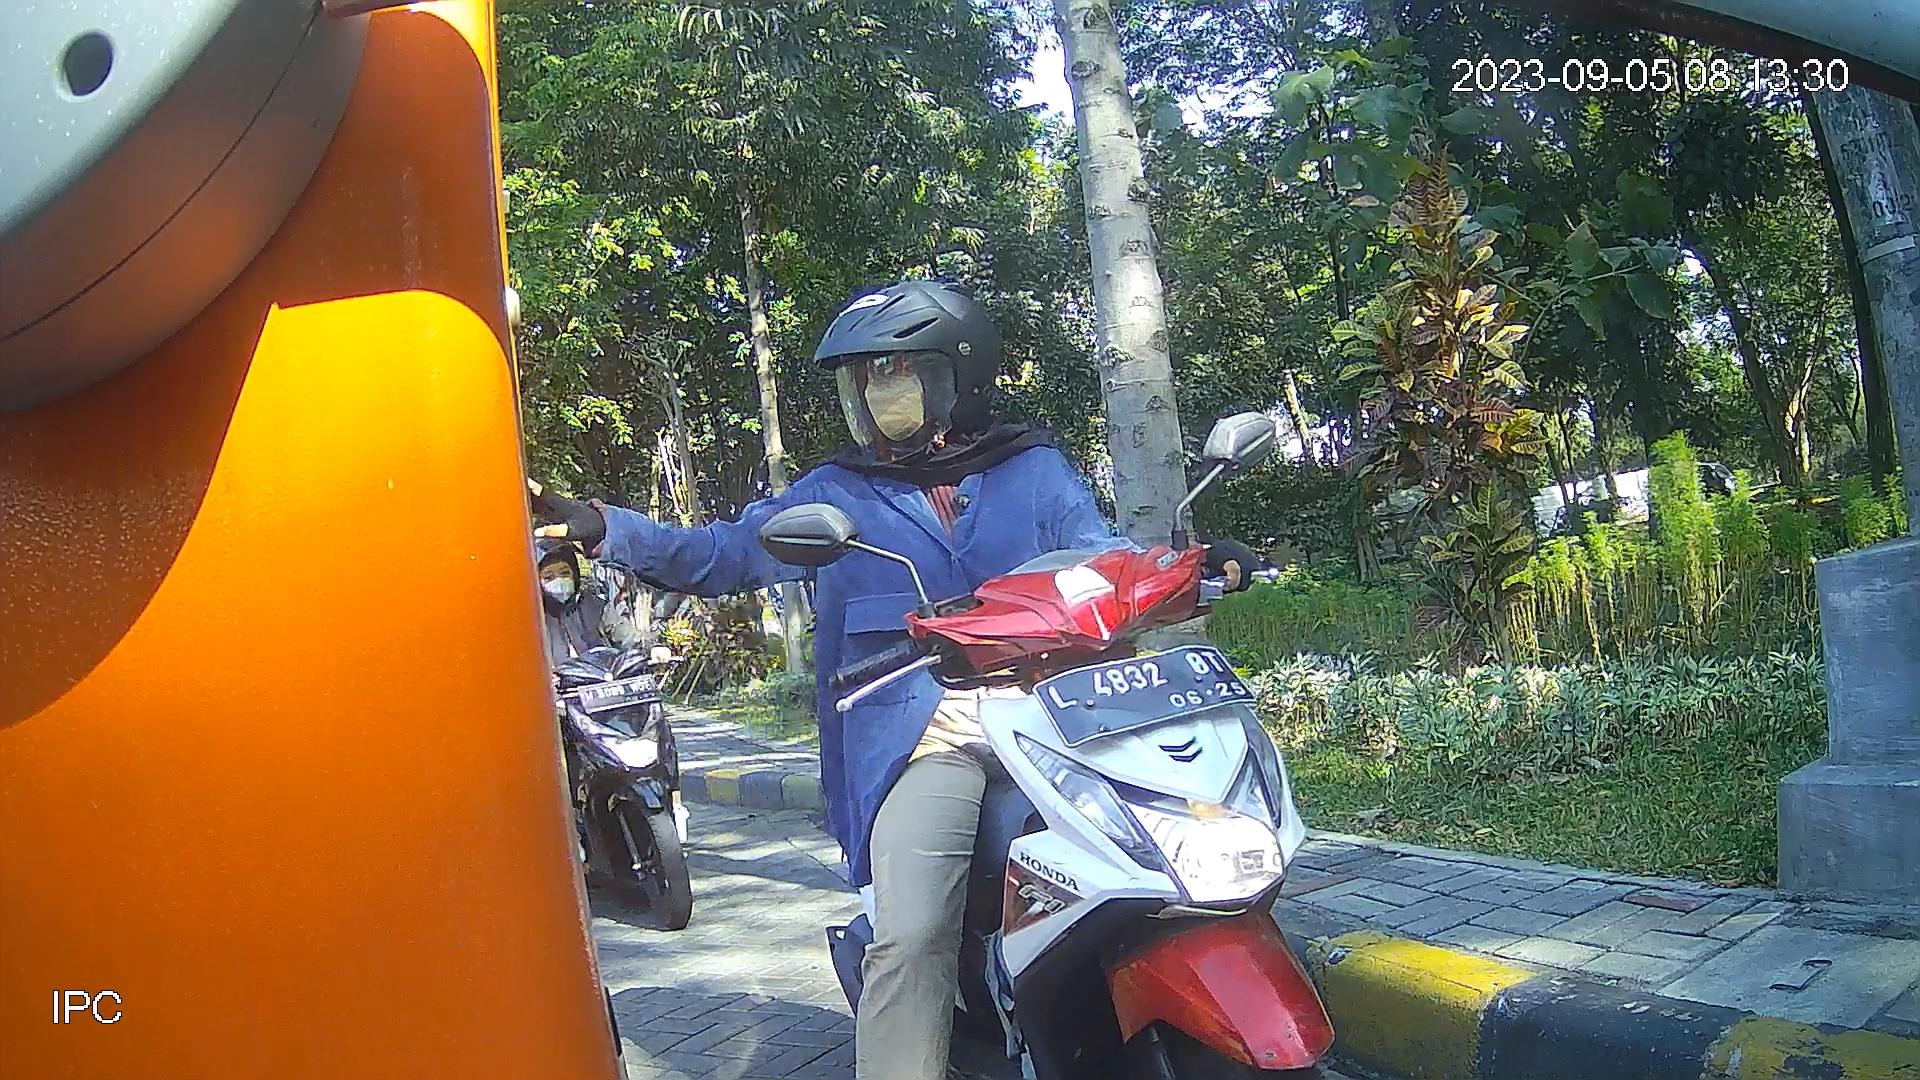plat: (1029, 641, 1261, 749)
